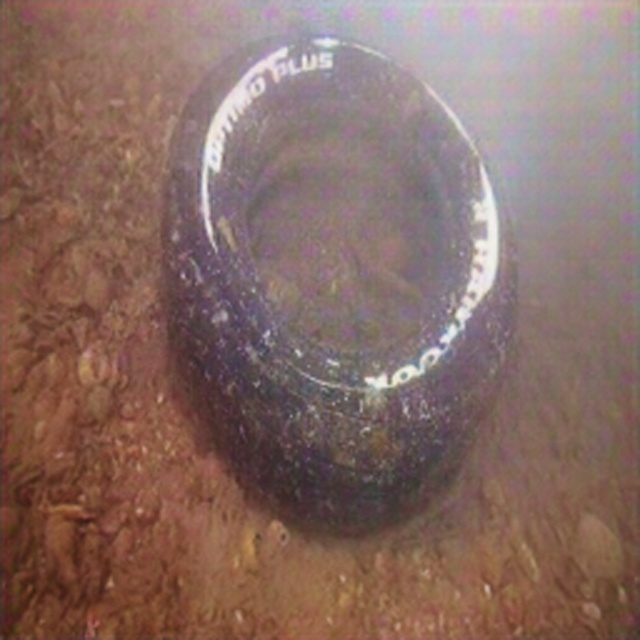mine: (158, 29, 518, 532)
